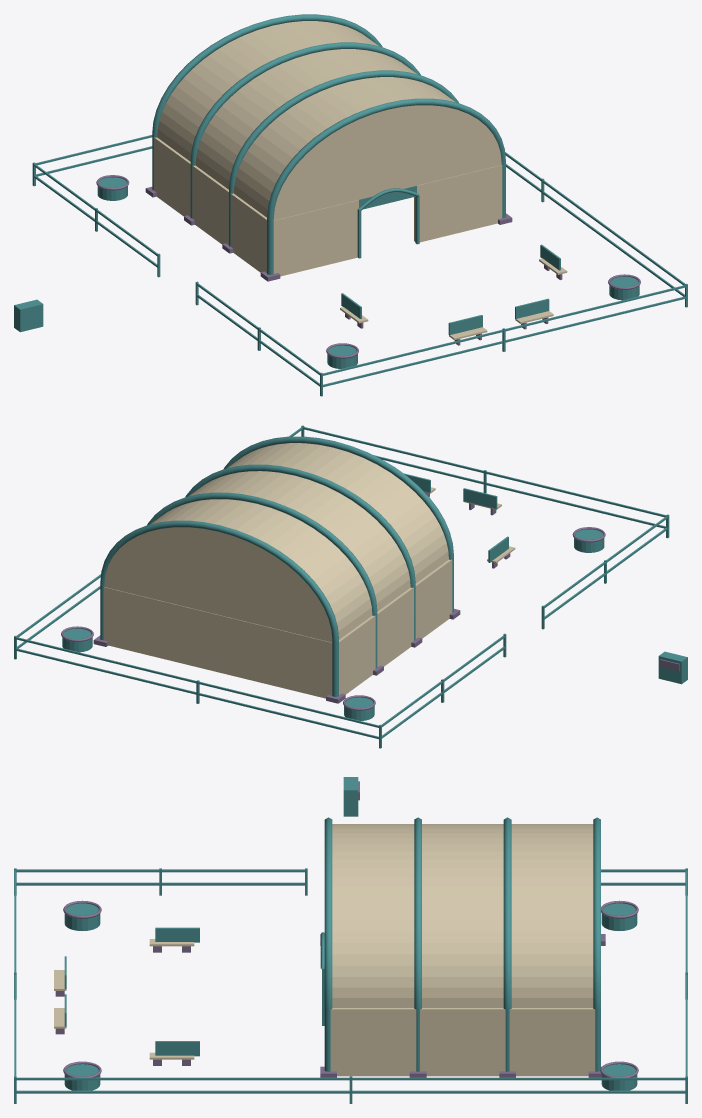
3 renders of one model, top to bottom at view 1: azimuth 30°, elevation 25°; view 2: azimuth 150°, elevation 25°; view 3: azimuth 270°, elevation 25°, orthographic. The views are drawn at different scales.
Visible parts, largest first — view 1: COMMONS_batch_Commons limestone, COMMONS_batch_Commons teal, COMMONS_batch_Commons violet; view 2: COMMONS_batch_Commons limestone, COMMONS_batch_Commons teal, COMMONS_batch_Commons violet; view 3: COMMONS_batch_Commons limestone, COMMONS_batch_Commons teal, COMMONS_batch_Commons violet.
Part boxes in pixels (<box>): COMMONS_batch_Commons limestone: <box>154,21,567,340</box>; COMMONS_batch_Commons teal: <box>14,14,687,396</box>; COMMONS_batch_Commons violet: <box>96,175,640,358</box>; COMMONS_batch_Commons limestone: <box>104,443,515,698</box>; COMMONS_batch_Commons teal: <box>14,425,687,748</box>; COMMONS_batch_Commons violet: <box>61,492,679,710</box>; COMMONS_batch_Commons limestone: <box>54,824,595,1076</box>; COMMONS_batch_Commons teal: <box>14,777,687,1103</box>; COMMONS_batch_Commons violet: <box>55,781,638,1077</box>.
Size of the model in its own units: 31.76 by 8.42 by 30.12.
